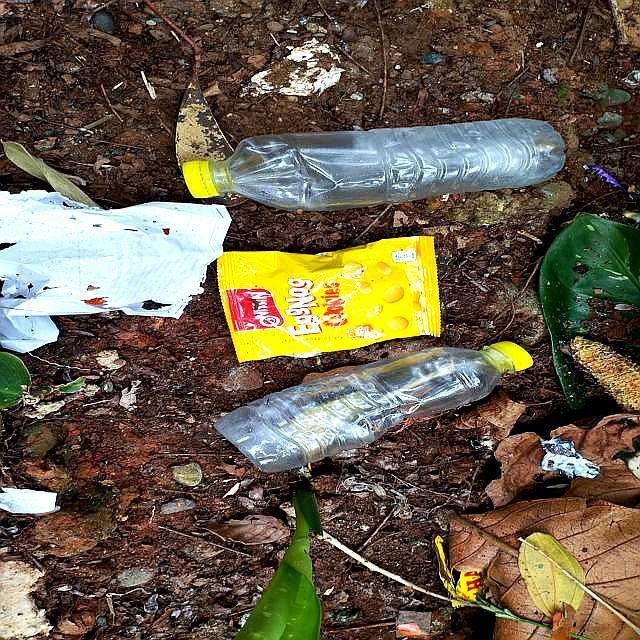Non-biodegradable: (202, 330, 557, 484), (180, 118, 569, 214), (212, 235, 445, 368), (1, 191, 225, 324)
